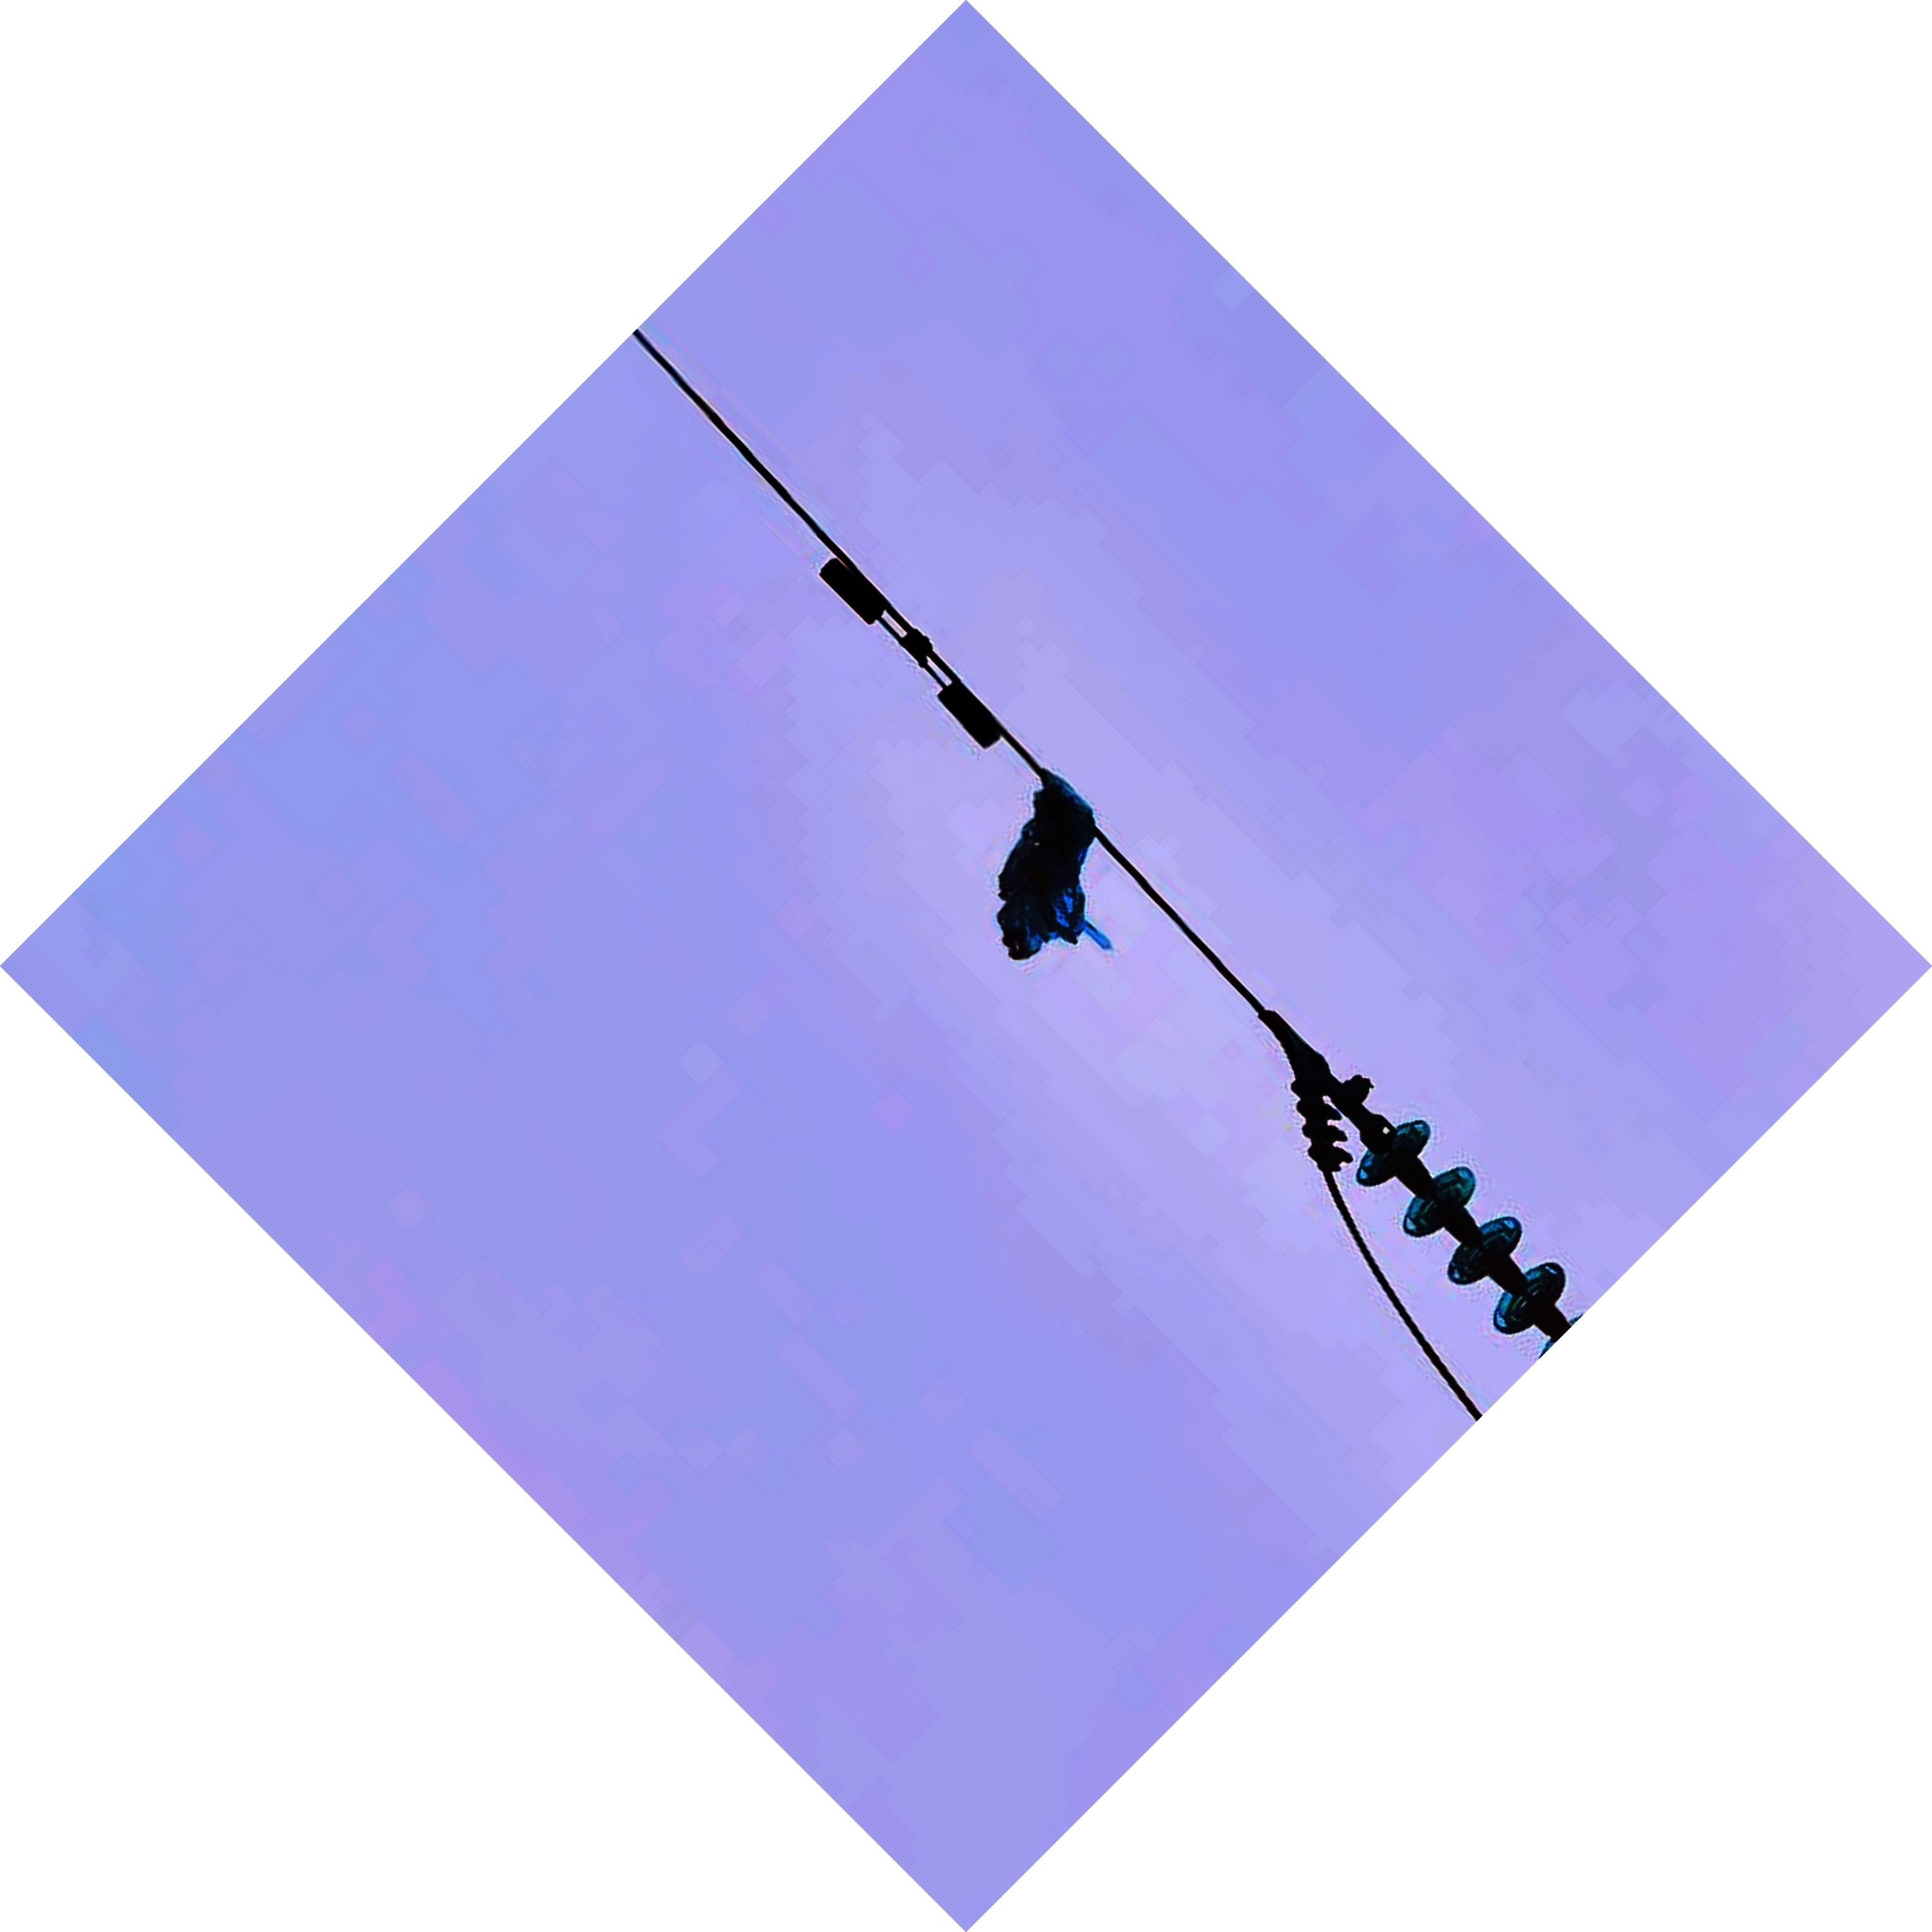wire foreign body: (954, 747, 1154, 989)
